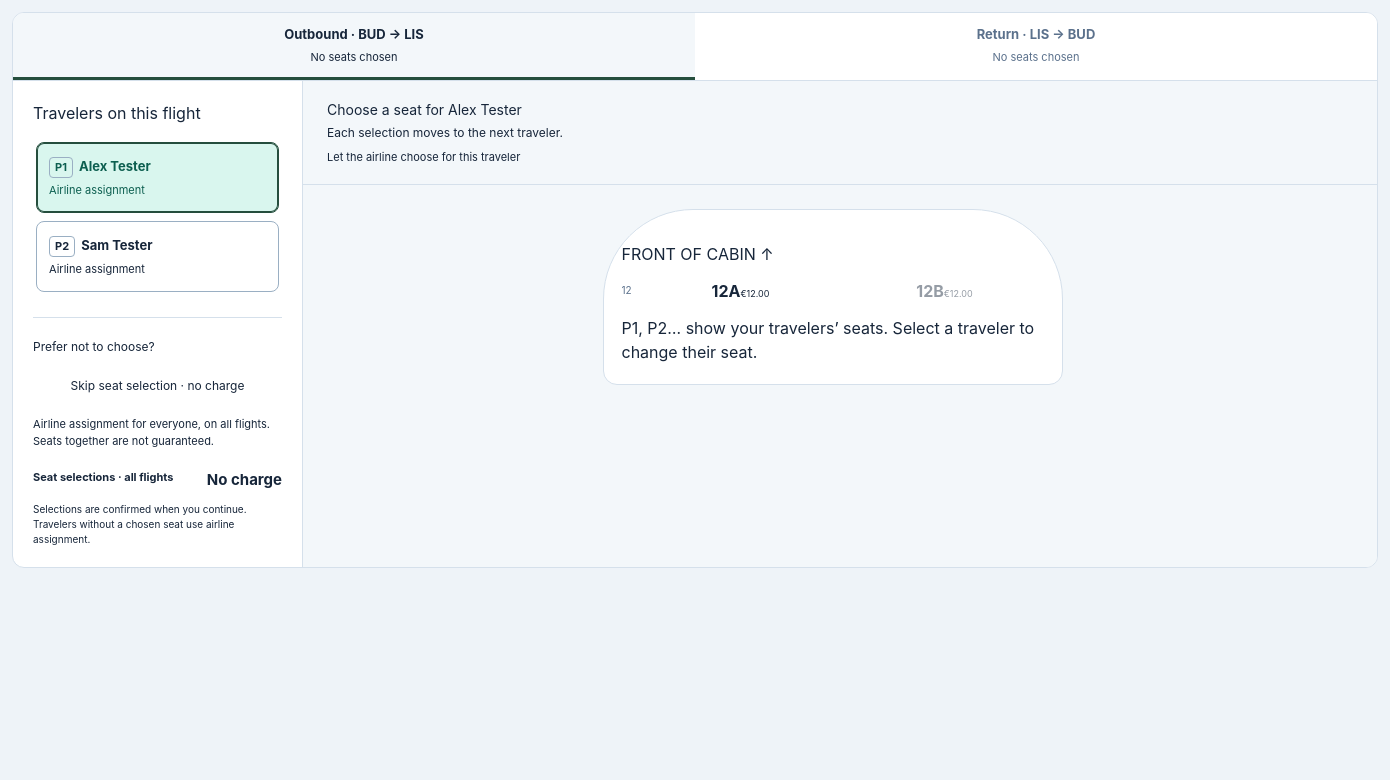
Scenario: blocks the same physical seat when separate provider IDs target different travelers
Click the button "12A€12.00" at (740, 291), box [642,266,840,316]
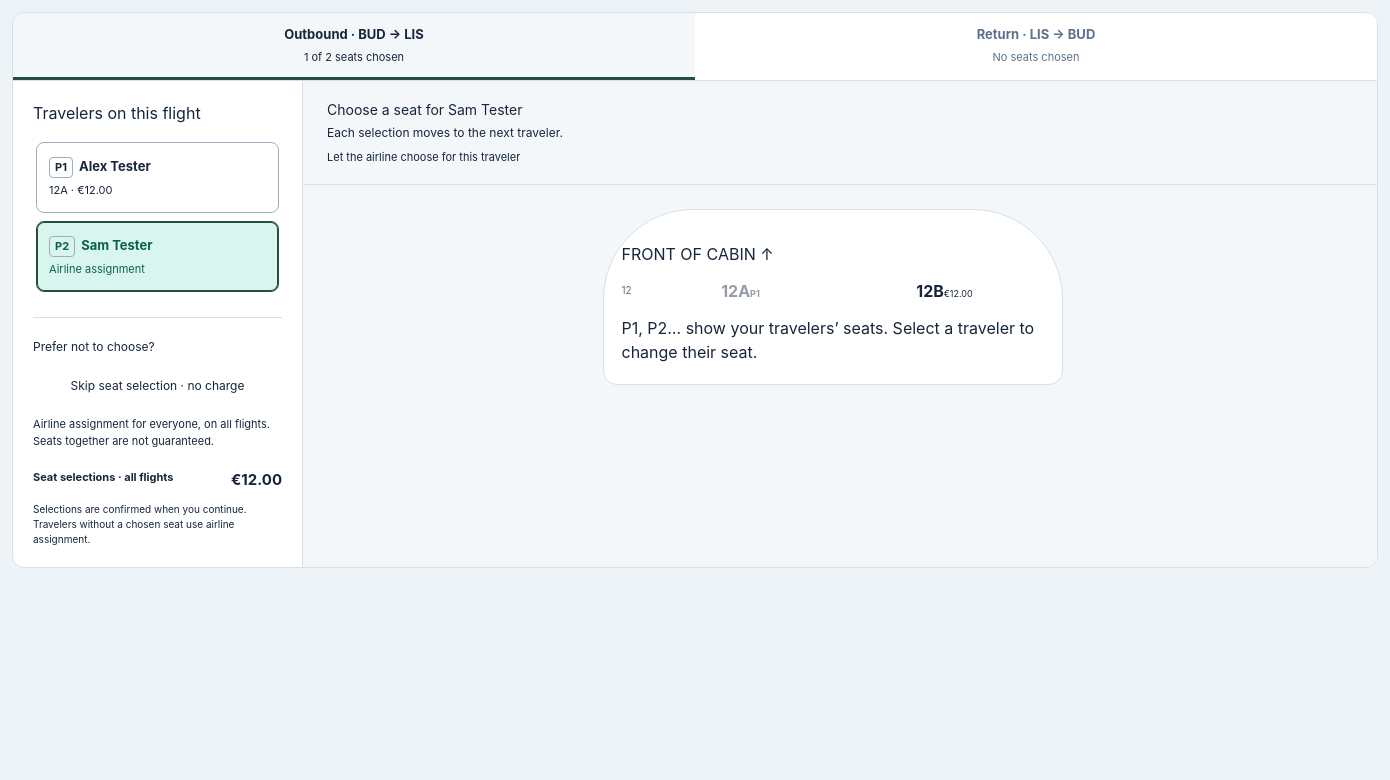
Expected: the number of buttons named "Seat 12A" is 1, [642,266,840,316]
Now the button with aria-label "Seat 12A" is disabled, box [642,266,840,316]
Now the button named "Seat 12B" is enabled, box [846,266,1044,316]
